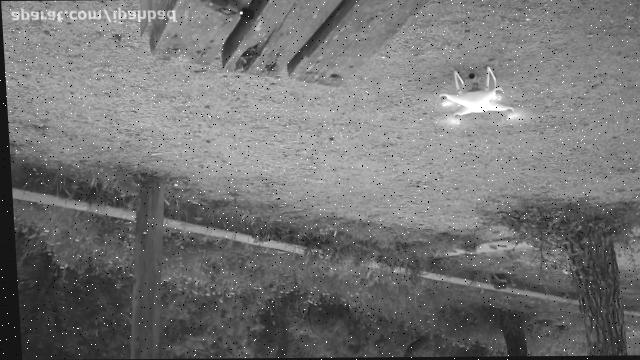drone: (429, 67, 532, 131)
